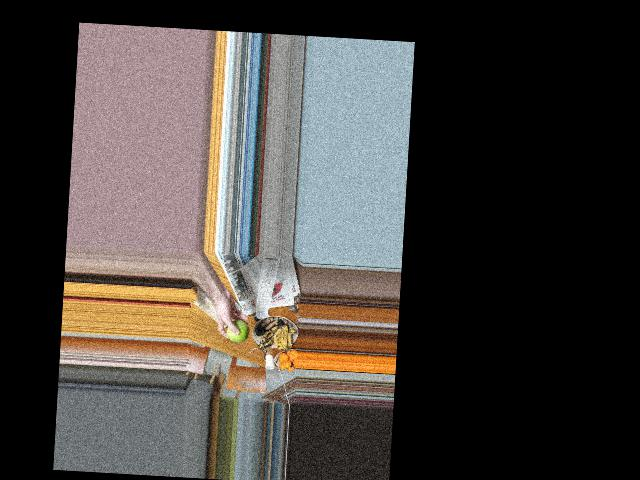apple: (226, 317, 250, 345)
